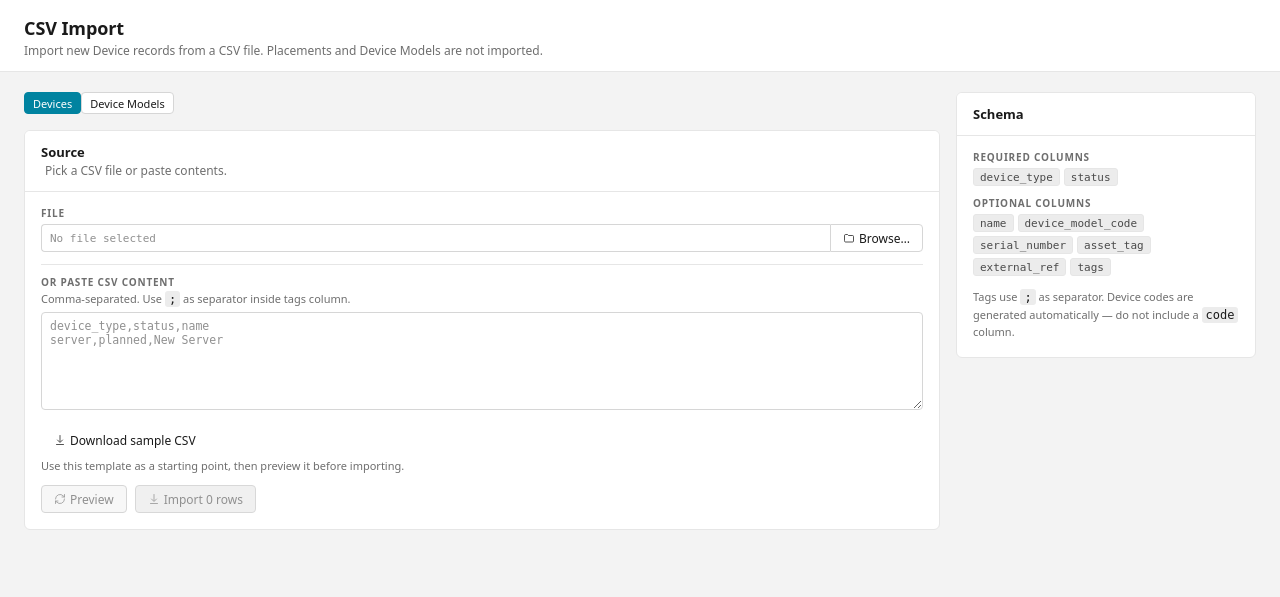
CsvImportPanel — download sample CSV › shows error message when save fails
Click the button with test id "btn-download-sample": (125, 440) [41,426,209,454]
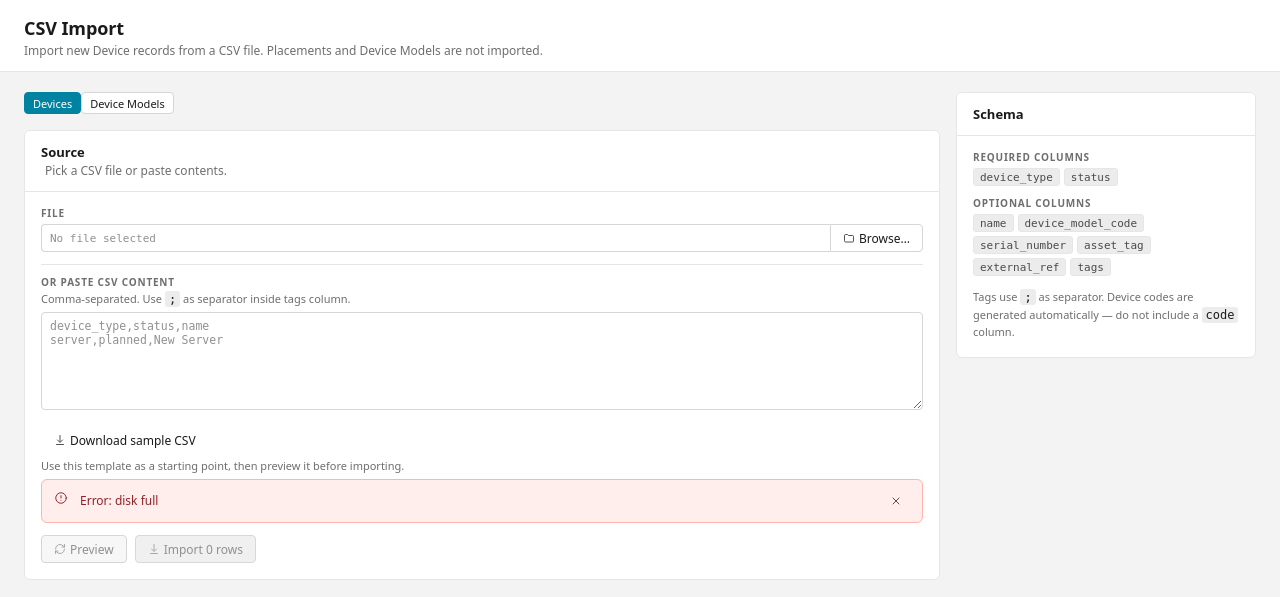
Expected: the text "Error: disk full" is shown, [80,492,158,509]
